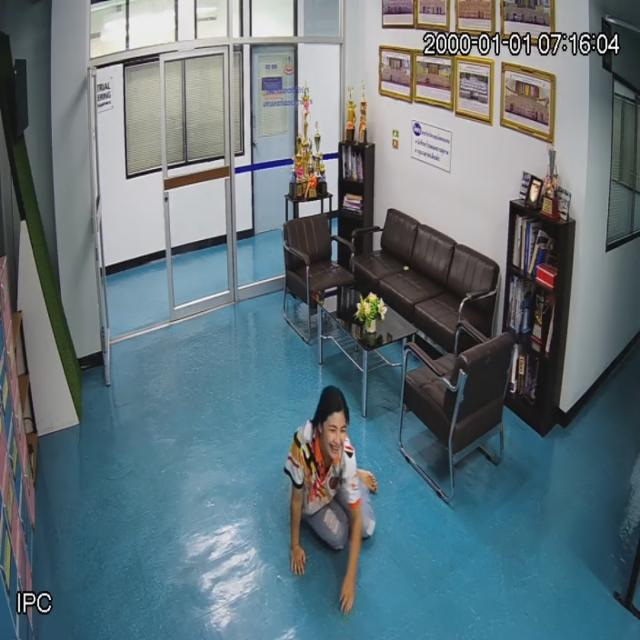fall: (287, 386, 379, 616)
